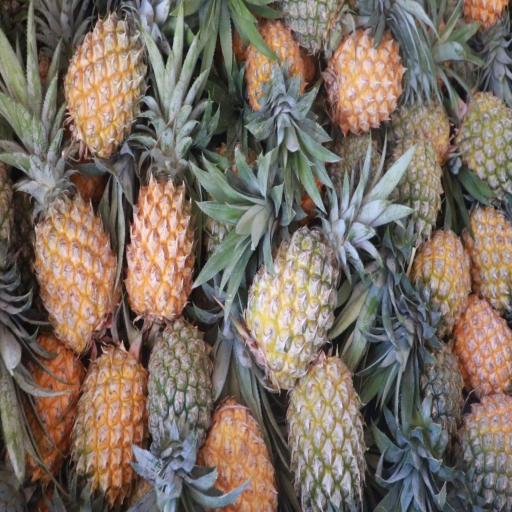------------------------------: (254, 236, 336, 380), (290, 358, 364, 510)
Pineapple - v8 v1: (37, 176, 112, 344), (76, 350, 150, 496), (67, 15, 144, 150), (126, 174, 193, 323), (18, 336, 83, 474), (207, 399, 278, 512), (328, 32, 399, 128), (242, 26, 304, 122), (457, 303, 512, 399), (414, 233, 466, 329), (466, 208, 511, 304)
